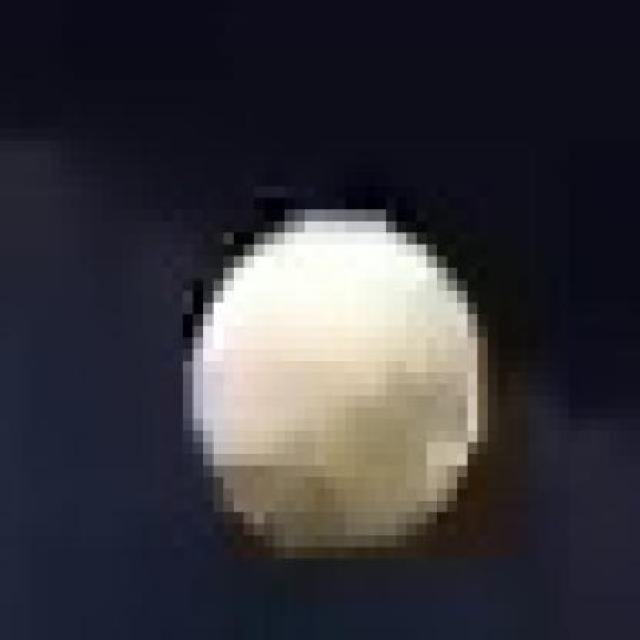Cricket ball: (179, 206, 489, 564)
